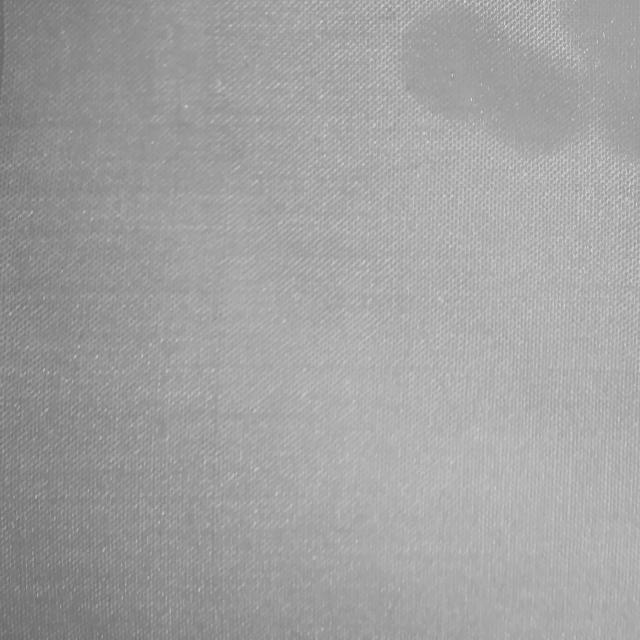Stain: (403, 0, 640, 163)
